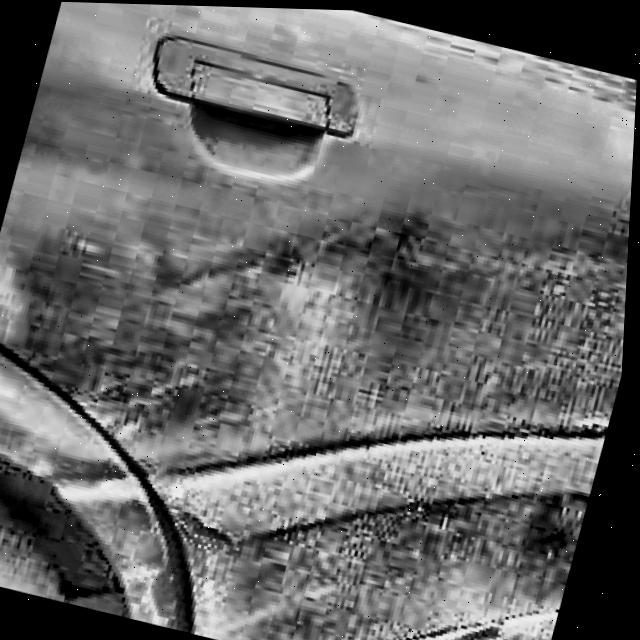door_dent: (286, 146, 593, 455), (487, 483, 588, 577)
